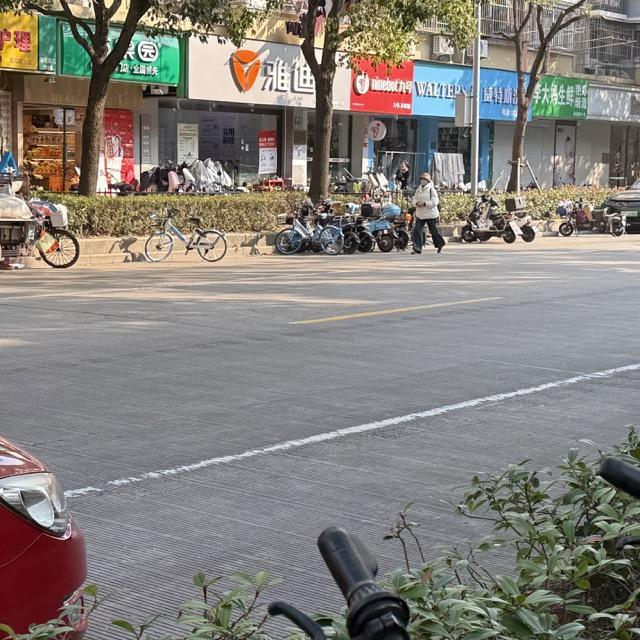curb: (78, 251, 203, 265), (81, 236, 147, 254), (227, 232, 277, 246), (225, 246, 276, 258)
